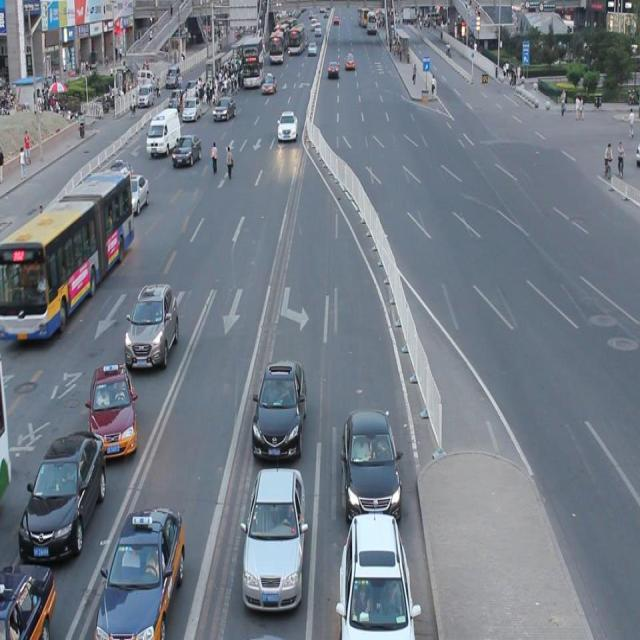car: (93, 498, 186, 640), (19, 427, 106, 558), (337, 505, 417, 640), (241, 458, 306, 606), (342, 401, 403, 519), (250, 353, 308, 456), (123, 276, 180, 366), (88, 358, 139, 456), (0, 554, 56, 640), (125, 172, 150, 214), (172, 133, 202, 167)
van: (1, 166, 132, 344)
